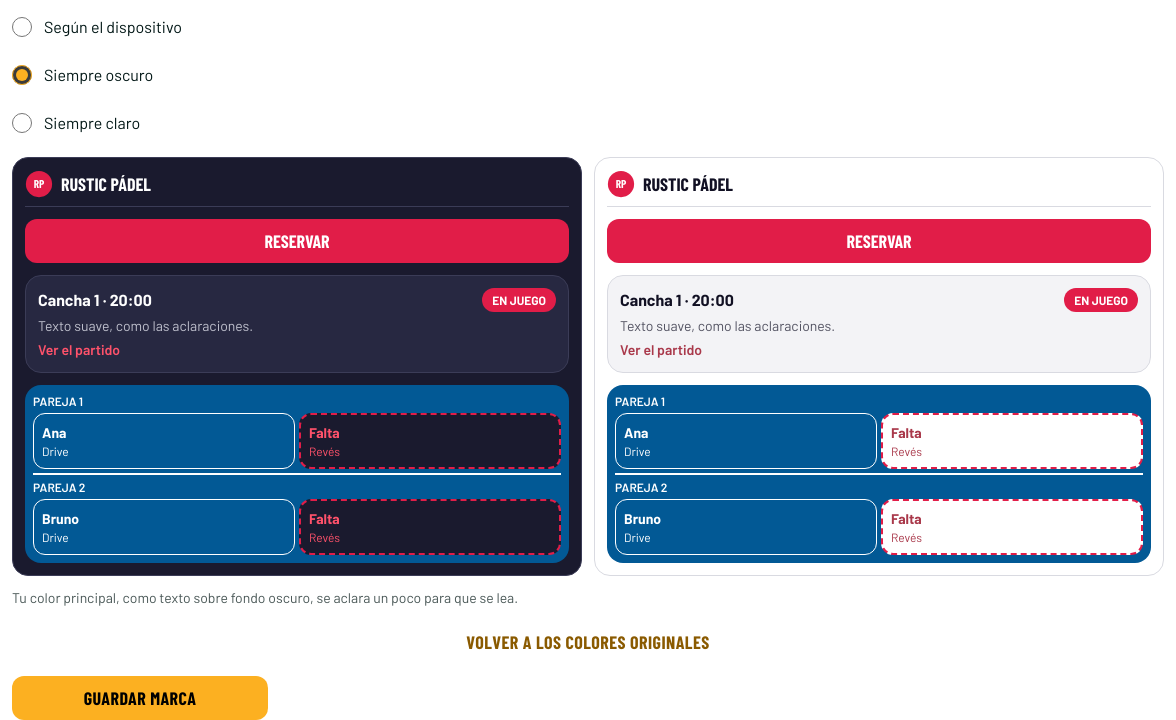
Test: BrandForm › goes back to the original colors without saving
(page scrolled)
Click the button "Volver a los colores originales" at (588, 642), box [12,620,1164,664]
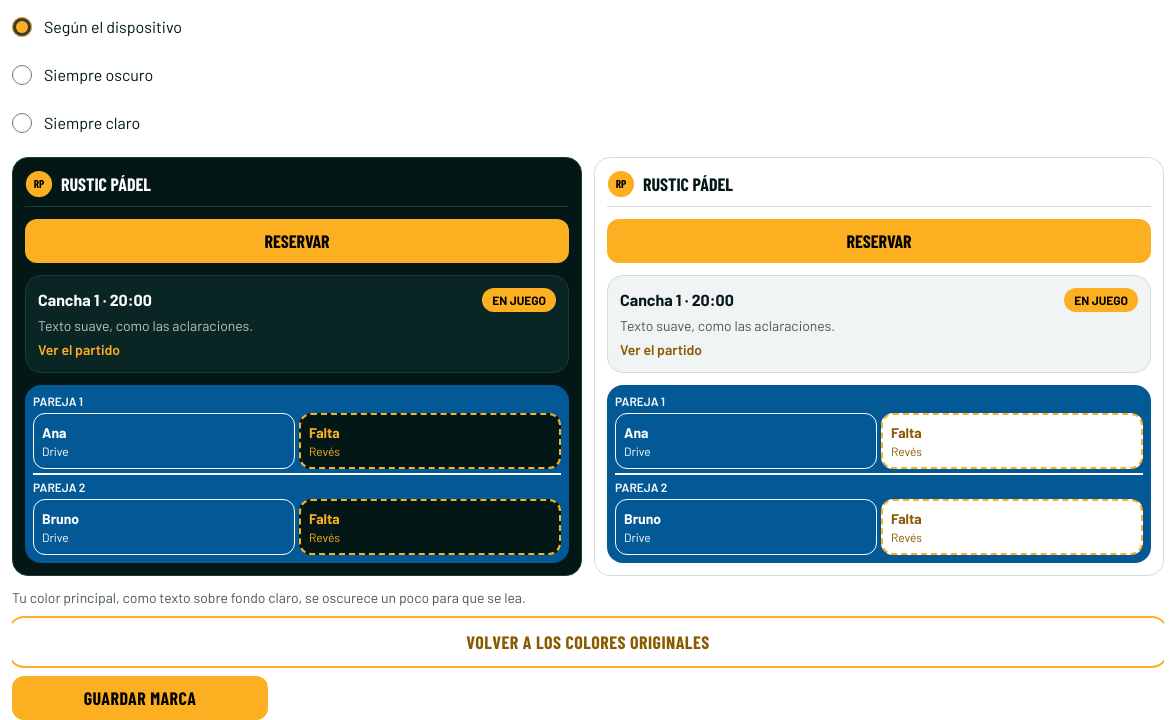
Now the radio button labelled "Según el dispositivo" is checked, box [12,17,32,37]
